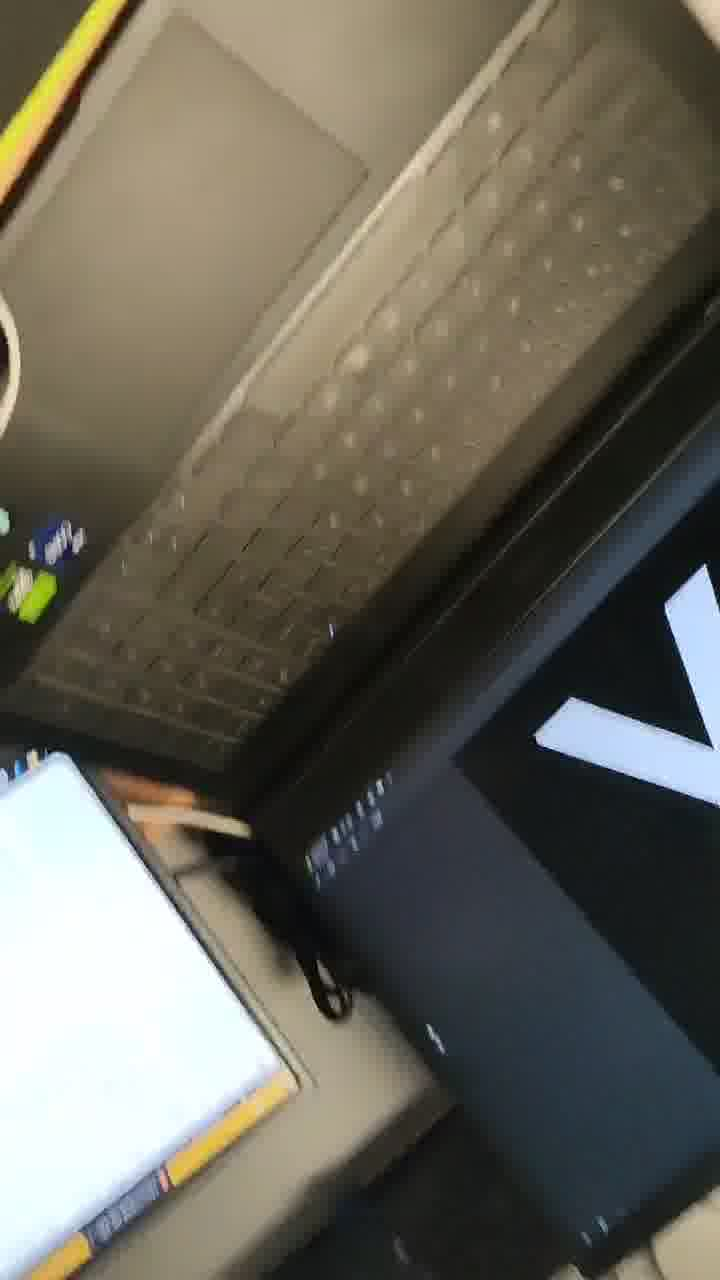X: (446, 497, 720, 881)
